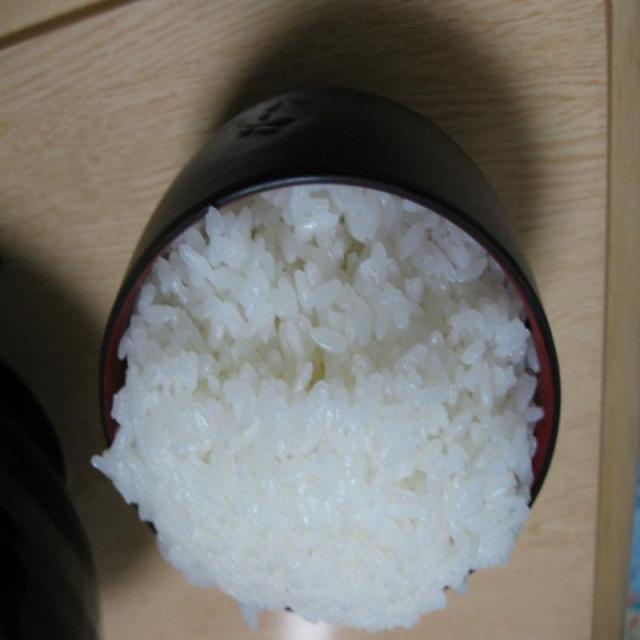nasi_putih: (97, 184, 548, 630)
